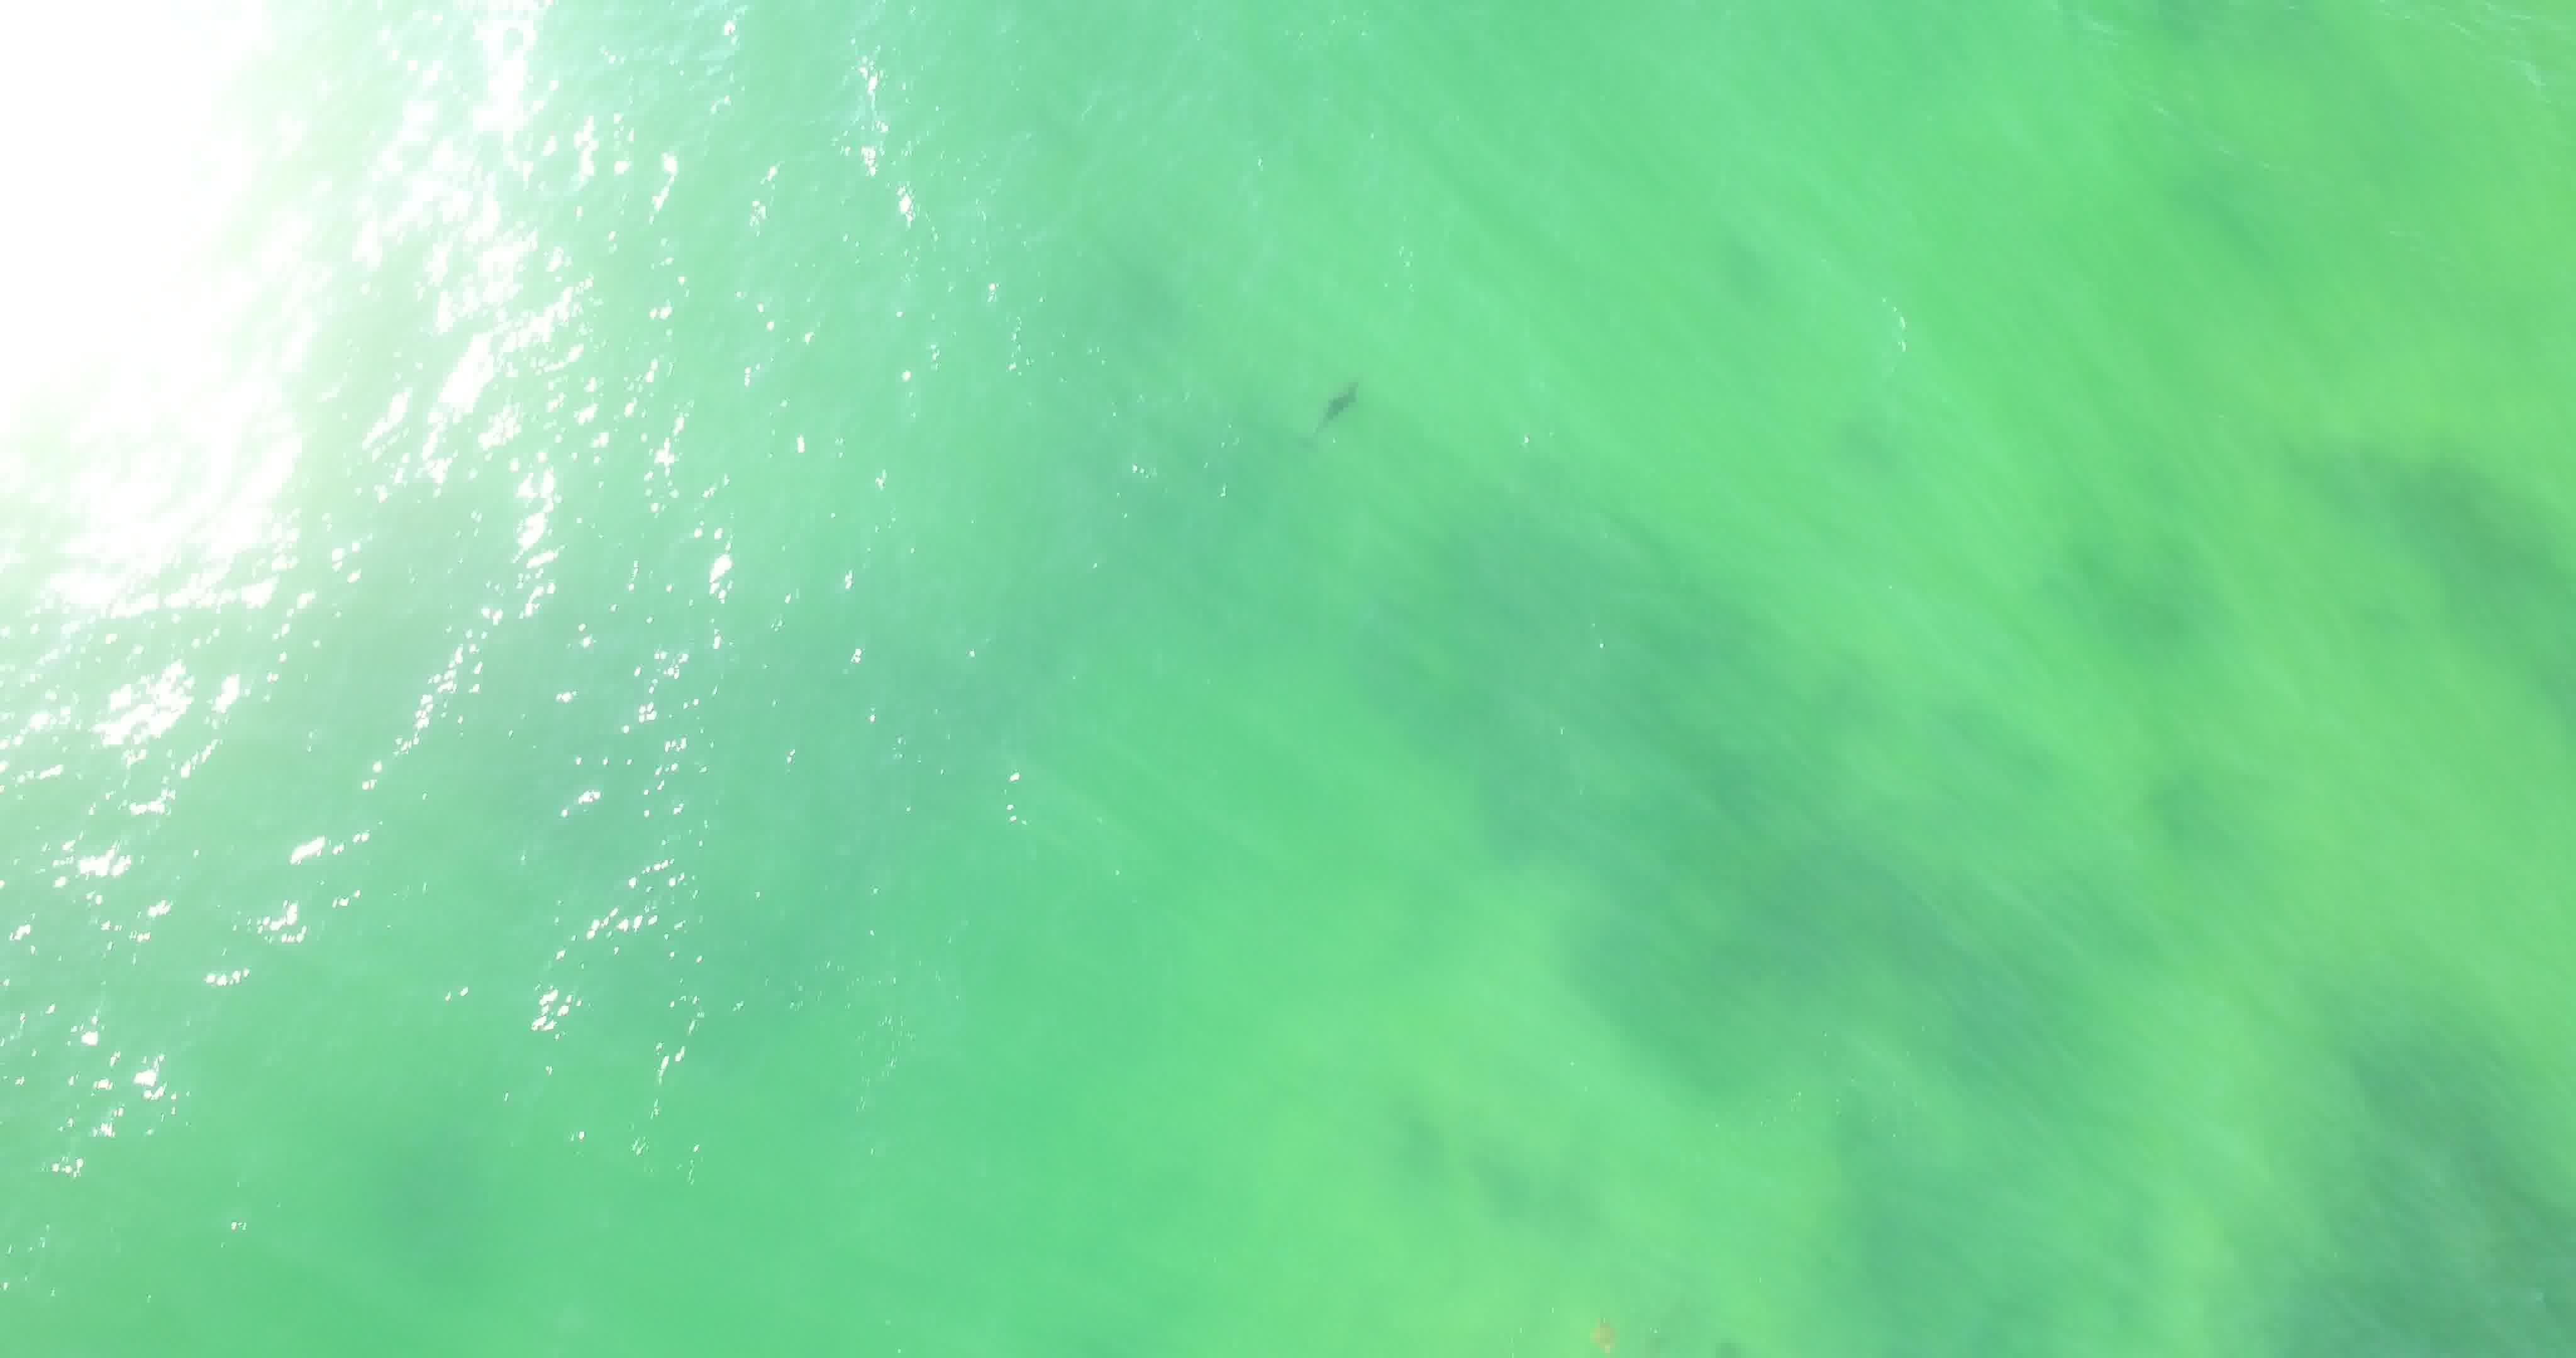dolphin: (1276, 353, 1392, 458)
